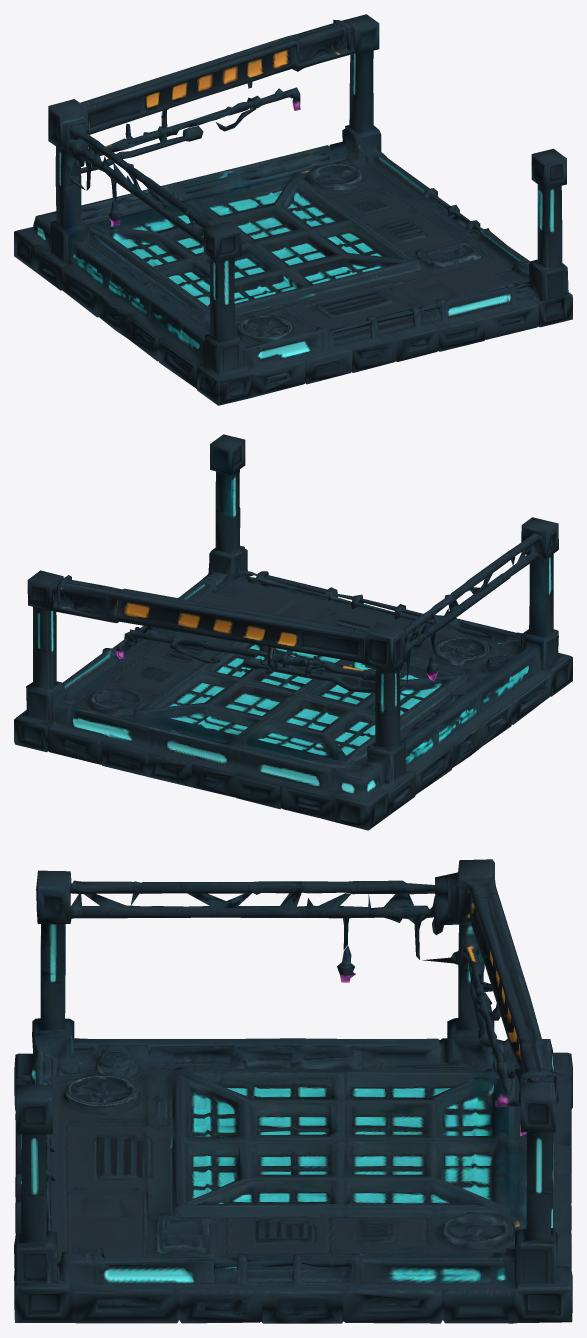
Rendered from CeilingZone3.fbx.
3 views of the same model, one above another, from view 1: azimuth 30°, elevation 25°; view 2: azimuth 150°, elevation 25°; view 3: azimuth 270°, elevation 25° (orthographic). The views are drawn at different scales.
Parts seen in each view (by area): view 1: tripo_node_d340bfac; view 2: tripo_node_d340bfac; view 3: tripo_node_d340bfac.
Boxes of the visible parts, left/top/right/bottom form: tripo_node_d340bfac: left=14, top=14, right=572, bottom=405; tripo_node_d340bfac: left=14, top=434, right=572, bottom=830; tripo_node_d340bfac: left=14, top=859, right=572, bottom=1323.
Size of the model in its own units: 0.9988 by 0.4583 by 0.9988.
1 material, 1 textured.
